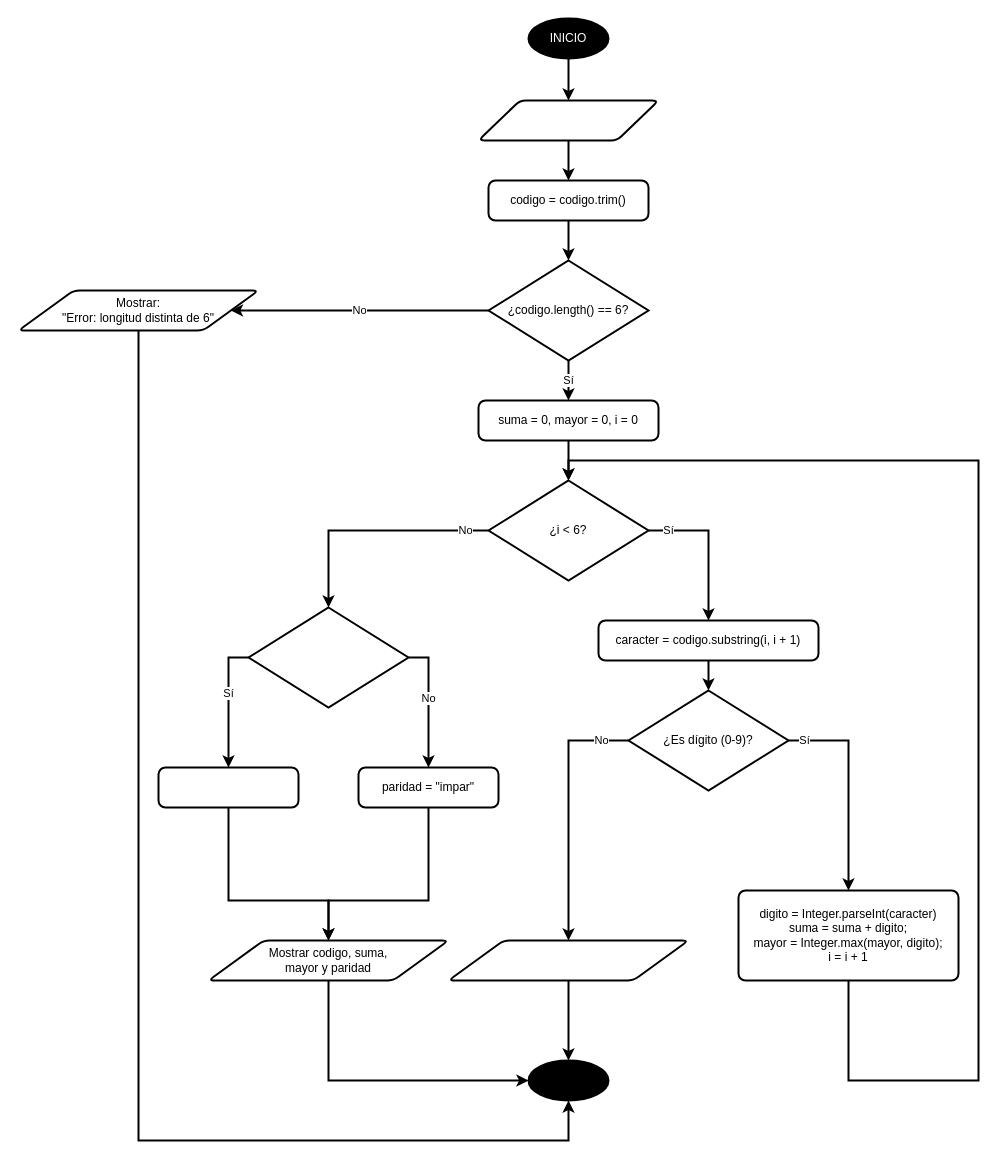
Some shapes in this 1004 by 1166 pixel diagram are drawn without their labels. The centre of each missing label's shape, as x and y in pixels:
FIN: the point at 568,1080
Leer codigo: the point at 568,120
Mostrar: "Error: código no numérico": the point at 568,960
paridad = "par": the point at 228,787
¿suma % 2 == 0?: the point at 328,657
